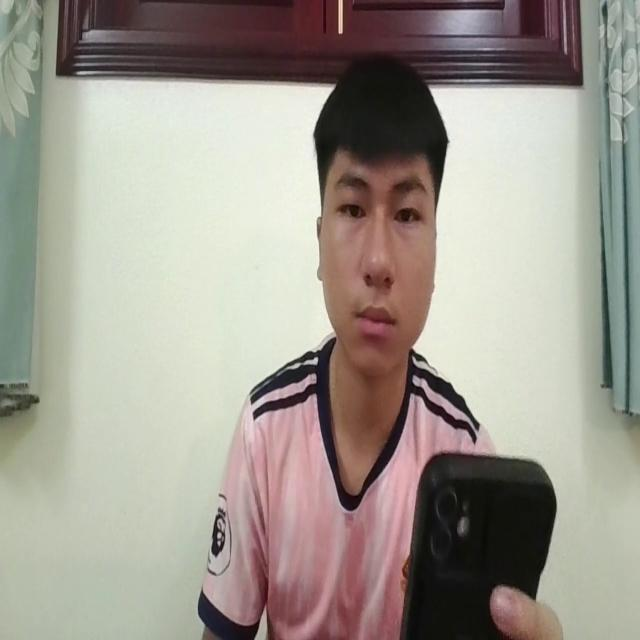phone: (401, 437, 557, 640)
student: (205, 46, 562, 640)
